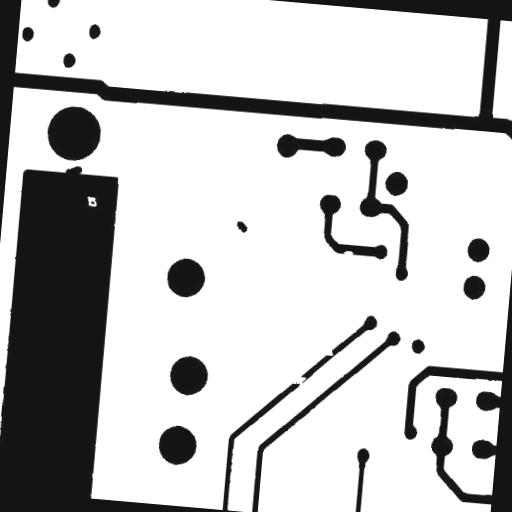copper: (228, 212, 256, 240)
mousebite: (334, 242, 362, 264), (316, 342, 342, 364)
open: (280, 368, 314, 394)
pin-hole: (78, 188, 105, 214)
short: (56, 157, 90, 190)
